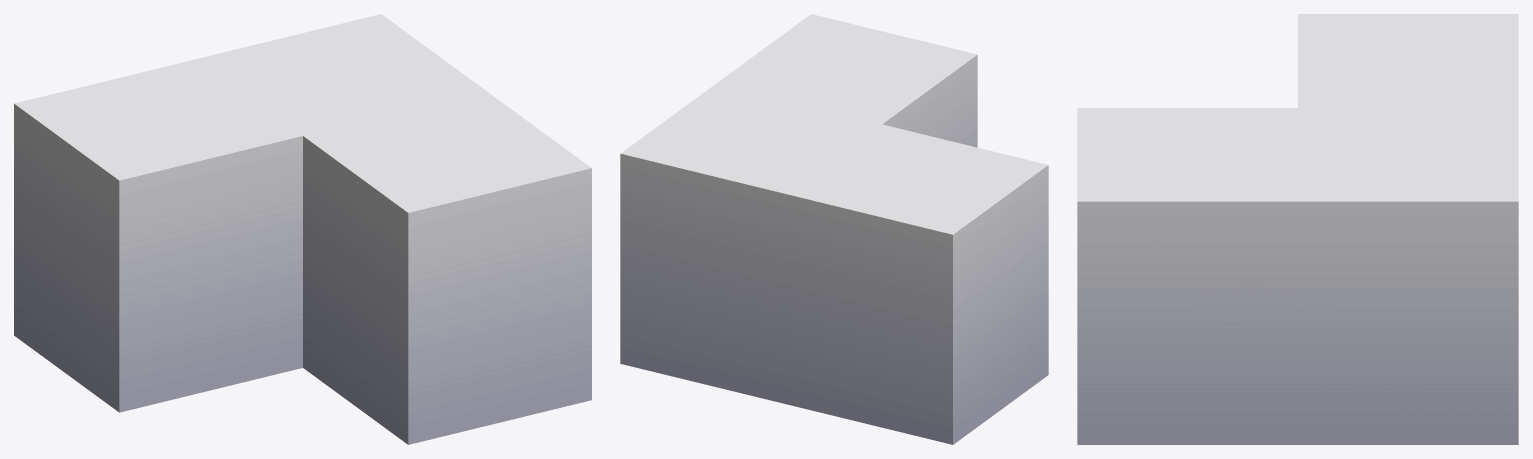
The model's file is none-lq-brick-corner.glb.
3 renders of one model, left to right at view 1: azimuth 30°, elevation 25°; view 2: azimuth 150°, elevation 25°; view 3: azimuth 270°, elevation 25°, orthographic. The views are drawn at different scales.
Visible parts, largest first — view 1: none-lq-brick-corner; view 2: none-lq-brick-corner; view 3: none-lq-brick-corner.
Part boxes in pixels (<box>): none-lq-brick-corner: <box>14,14,591,444</box>; none-lq-brick-corner: <box>620,14,1048,444</box>; none-lq-brick-corner: <box>1077,14,1518,444</box>.
Size of the model in its own units: 0.795 by 0.48 by 0.79.
Materials: 1 (1 with a texture image).
